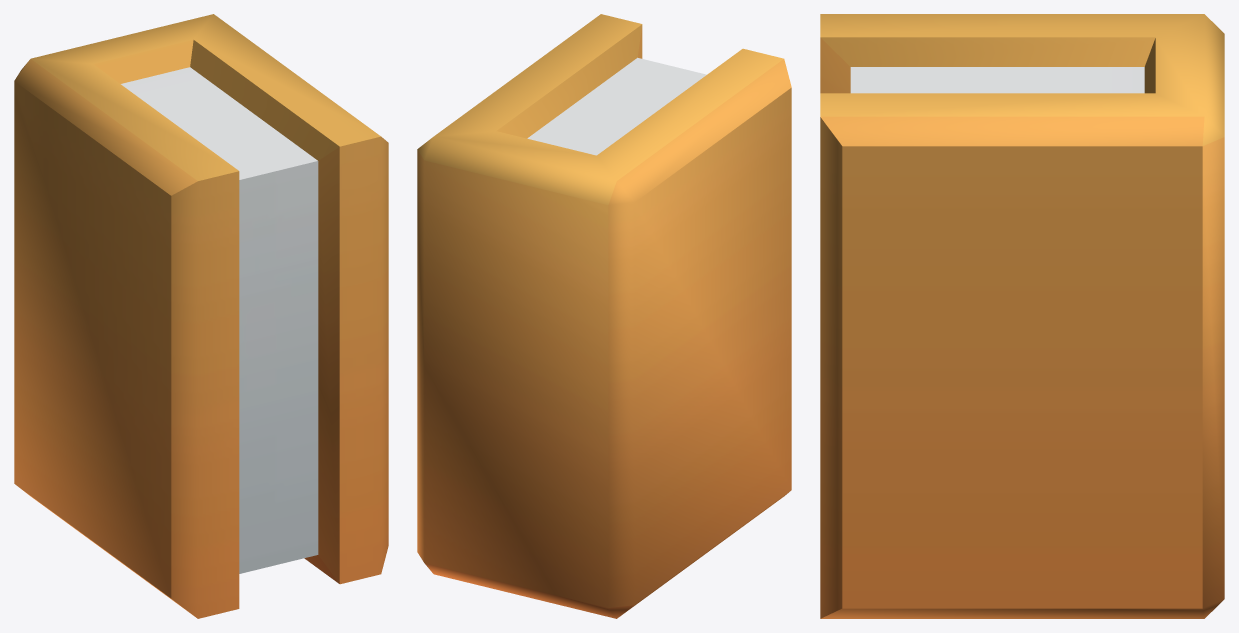
The model's file is book.glb.
The picture shows the model from 3 angles, left to right: view 1: azimuth 30°, elevation 25°; view 2: azimuth 150°, elevation 25°; view 3: azimuth 270°, elevation 25°; orthographic projection. The views are drawn at different scales.
Parts seen in each view (by area): view 1: book_single; view 2: book_single; view 3: book_single.
Boxes of the visible parts, x1,y1,x2,y2 form: book_single: (14,14,388,618); book_single: (417,14,791,618); book_single: (820,14,1224,618).
Bounding box in the file's own units: 0.1248 × 0.24 × 0.1752.
1 material, 1 textured.
